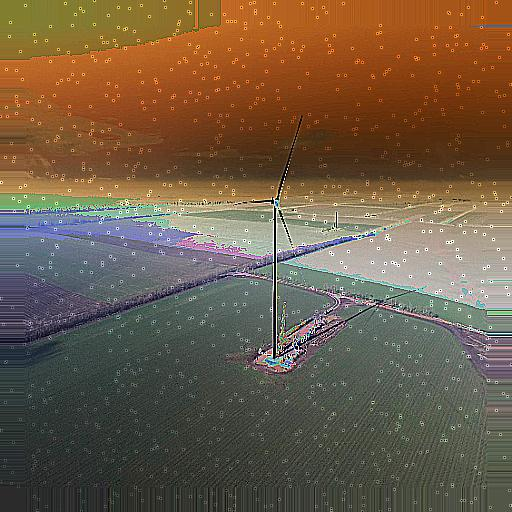wind turbine: (231, 115, 306, 356)
